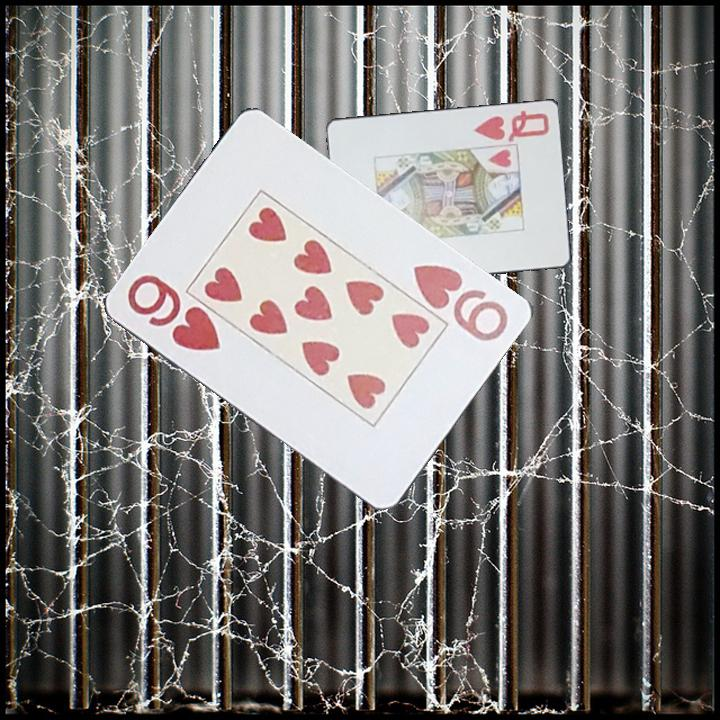9h: (409, 260, 512, 345), (124, 270, 227, 354)
Qh: (470, 106, 553, 145)
